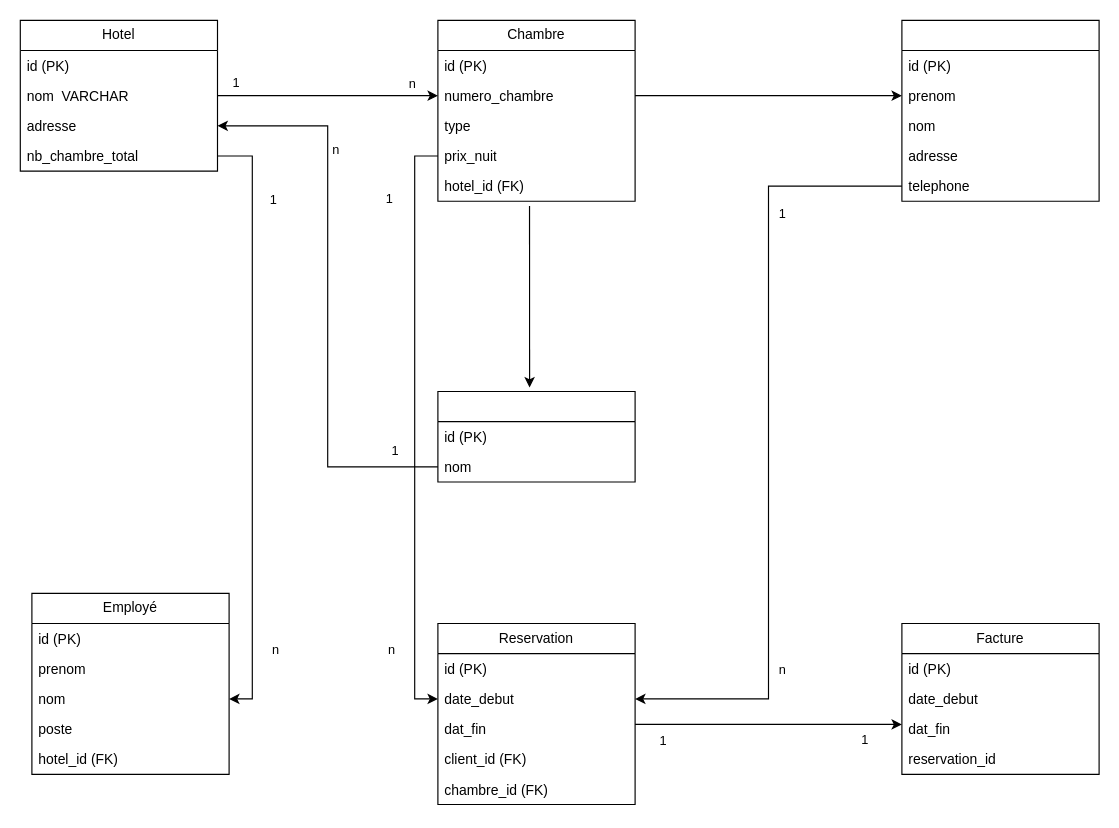
The diagram is 1119 pixels wide and 828 high, and some of its shapes have lost their labels. Each missing label, with the box of its shape:
Client: (901, 19, 1099, 201)
Service: (437, 390, 635, 482)
